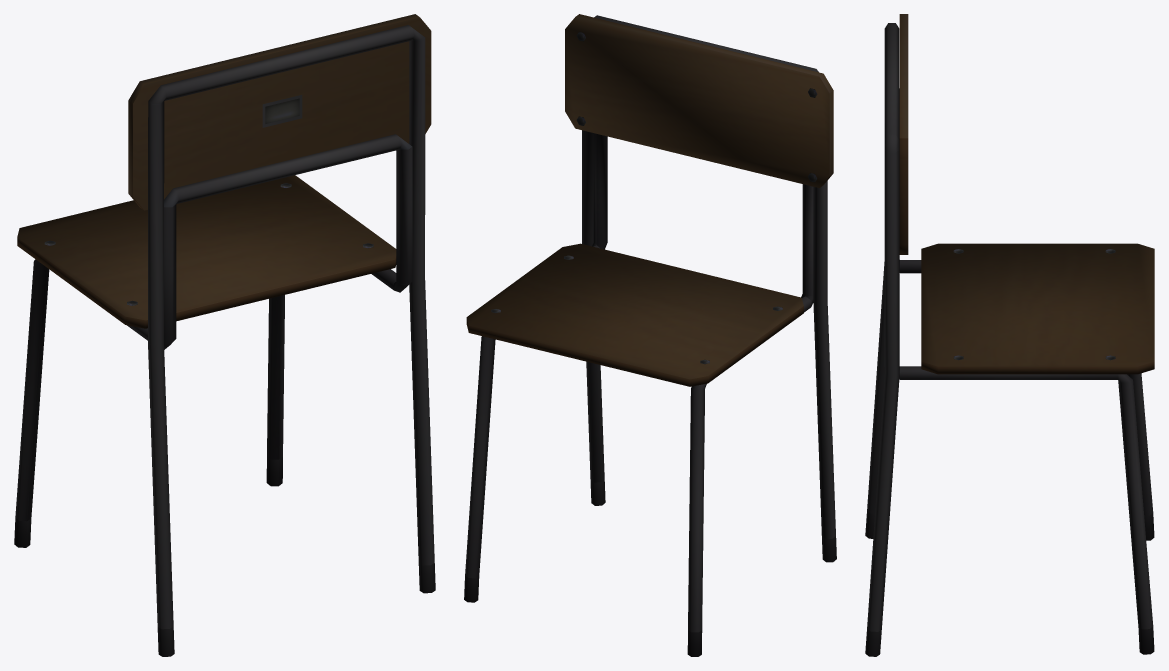
File: chair_type00_nig.FBX
The picture shows the model from 3 angles, left to right: view 1: azimuth 30°, elevation 25°; view 2: azimuth 150°, elevation 25°; view 3: azimuth 270°, elevation 25°; orthographic projection. The views are drawn at different scales.
Visible parts, largest first — view 1: crm_chairA000_nig; view 2: crm_chairA000_nig; view 3: crm_chairA000_nig.
Part boxes in pixels (x1,y1,x2,y2): crm_chairA000_nig: (14, 14, 435, 656); crm_chairA000_nig: (464, 14, 836, 656); crm_chairA000_nig: (865, 14, 1154, 656).
Bounding box in the file's own units: 50.77 × 91.22 × 46.09.
